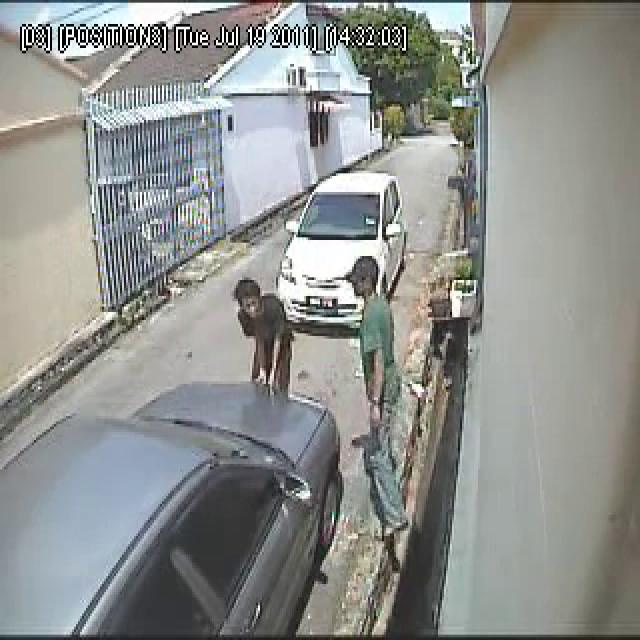stealing: (0, 5, 640, 636)
vandalism: (0, 3, 640, 637)
